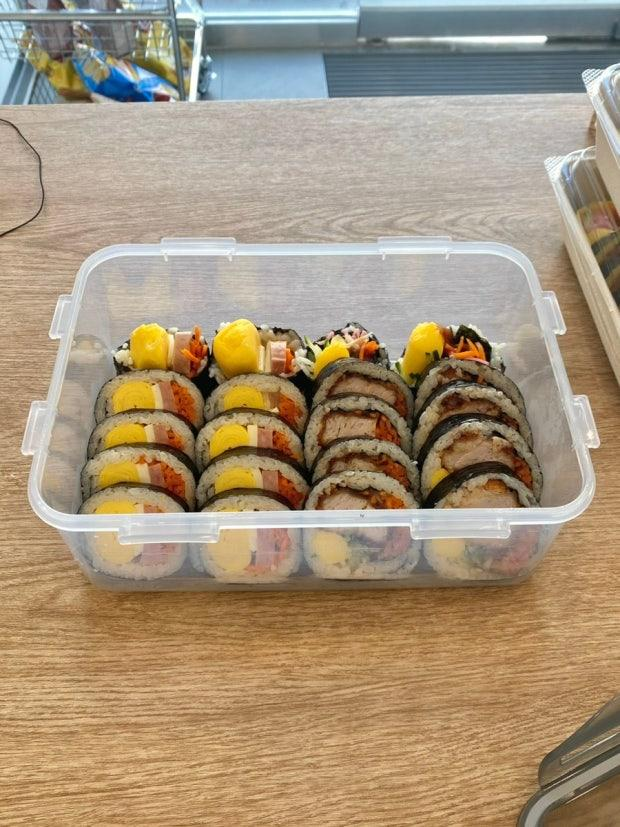Lunch Box: (22, 238, 599, 590), (545, 64, 619, 381)
